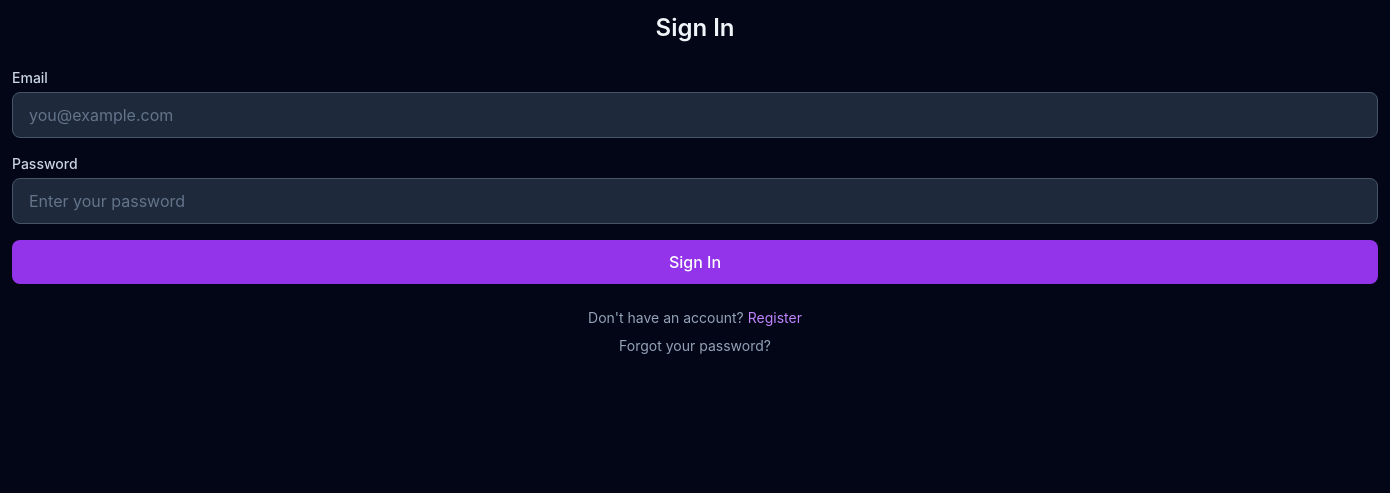
Test: LoginPage › shows verification hint after failed login
Type "newuser@example.com" into the field labelled "Email" at (695,115), box [12,92,1378,138]
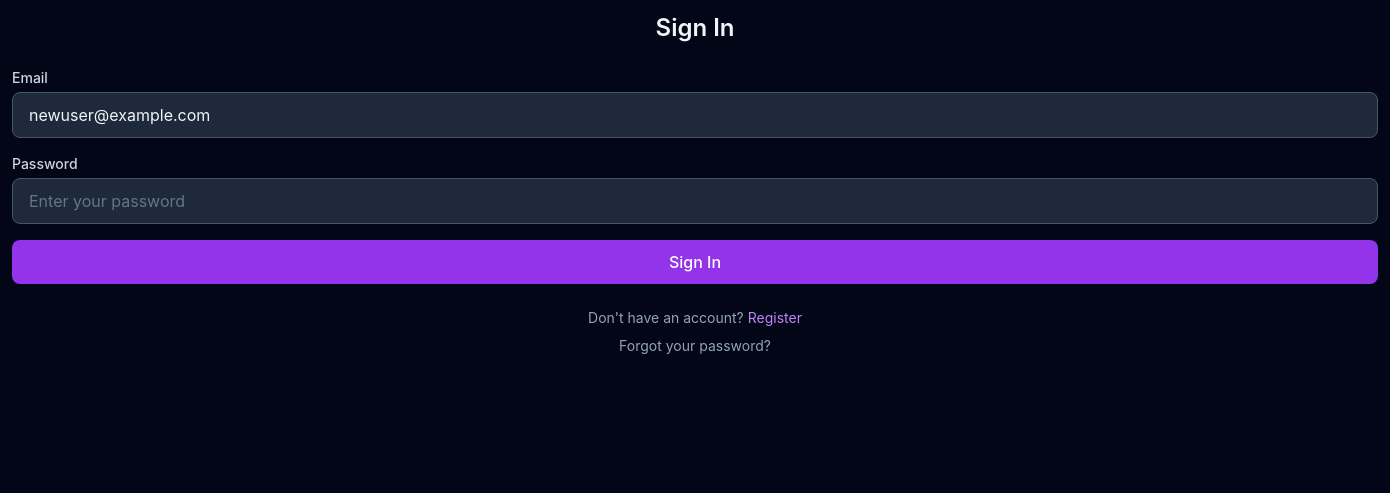
Type "password123" into the password field labelled "Password" at (695,201), box [12,178,1378,224]
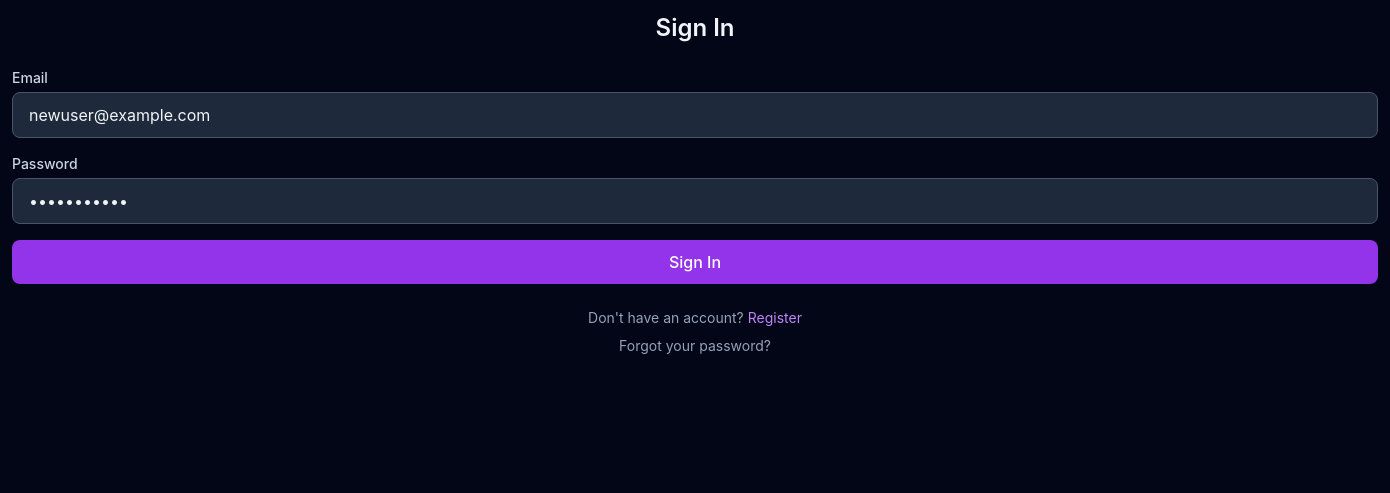
Click the button "Sign In" at (695,262), box [12,240,1378,284]
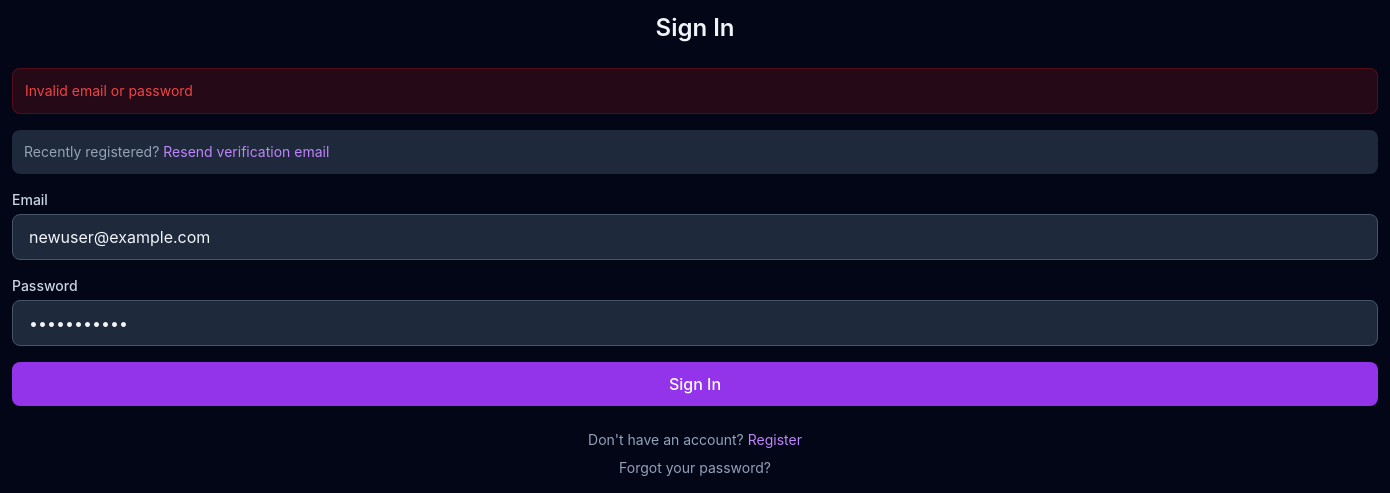
Now the text "Recently registered?" is shown, box [24,143,159,160]
